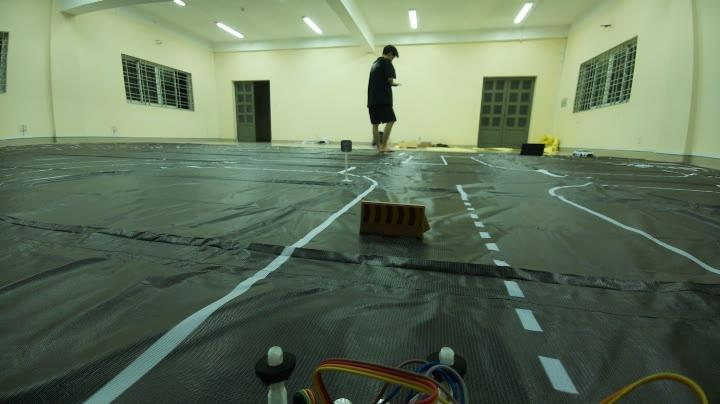roadblock: (357, 194, 434, 246)
